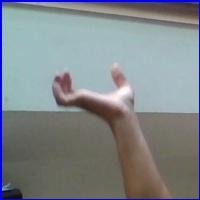B: (47, 60, 142, 116)
